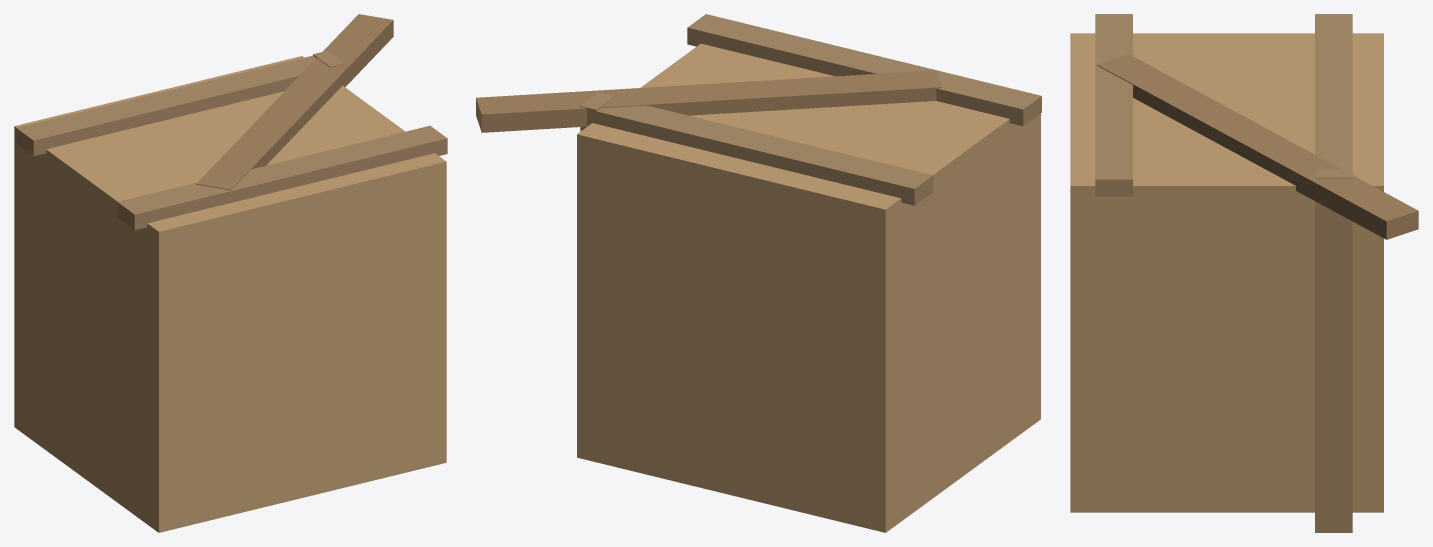
Rendered from wooden_loot_crate.glb.
3 views of the same model, side by side, from view 1: azimuth 30°, elevation 25°; view 2: azimuth 150°, elevation 25°; view 3: azimuth 270°, elevation 25° (orthographic). The views are drawn at different scales.
Parts seen in each view (by area): view 1: crate_body, crate_front_plank_top, crate_diagonal_brace, crate_front_plank_bottom; view 2: crate_body, crate_diagonal_brace, crate_front_plank_bottom, crate_front_plank_top; view 3: crate_body, crate_side_plank, crate_diagonal_brace, crate_front_plank_top, crate_front_plank_bottom.
Boxes of the visible parts, x1,y1,x2,y2 form: crate_body: [14, 56, 446, 532]; crate_front_plank_top: [117, 125, 447, 230]; crate_diagonal_brace: [196, 14, 393, 190]; crate_front_plank_bottom: [16, 55, 315, 156]; crate_body: [577, 43, 1040, 532]; crate_diagonal_brace: [476, 70, 942, 132]; crate_front_plank_bottom: [587, 105, 933, 205]; crate_front_plank_top: [687, 14, 1041, 126]; crate_body: [1070, 33, 1383, 512]; crate_side_plank: [1315, 169, 1352, 532]; crate_diagonal_brace: [1097, 54, 1418, 239]; crate_front_plank_top: [1095, 14, 1132, 196]; crate_front_plank_bottom: [1315, 14, 1352, 169].
Bounding box in the file's own units: 1.57 × 1.25 × 1.11.
